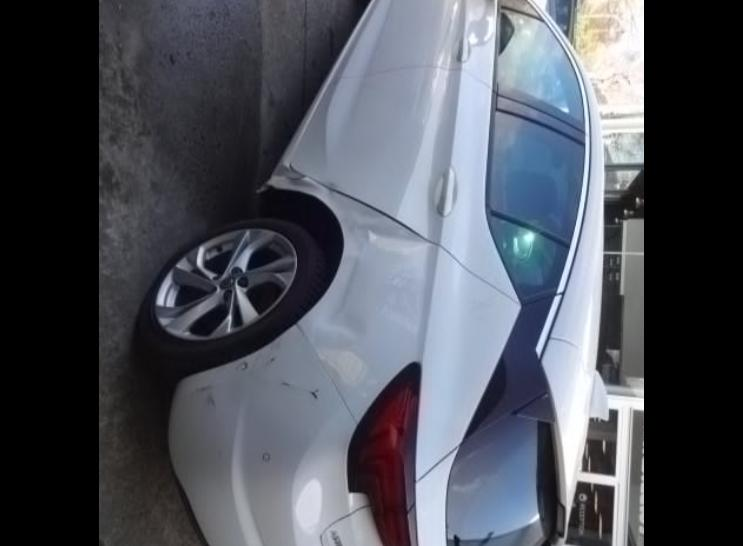Dent: (310, 254, 364, 340), (348, 210, 430, 254), (268, 164, 350, 206), (380, 260, 423, 334), (338, 212, 364, 254), (324, 180, 336, 188)
Scratch: (246, 340, 286, 370), (201, 383, 218, 408), (306, 386, 324, 402), (232, 360, 250, 370), (286, 172, 308, 180), (322, 180, 340, 188), (280, 378, 292, 388)
